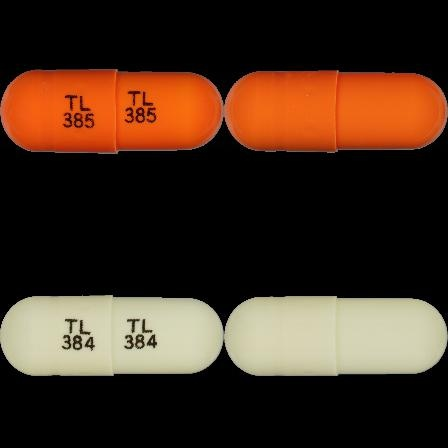68788-9815: (0, 0, 224, 224)
